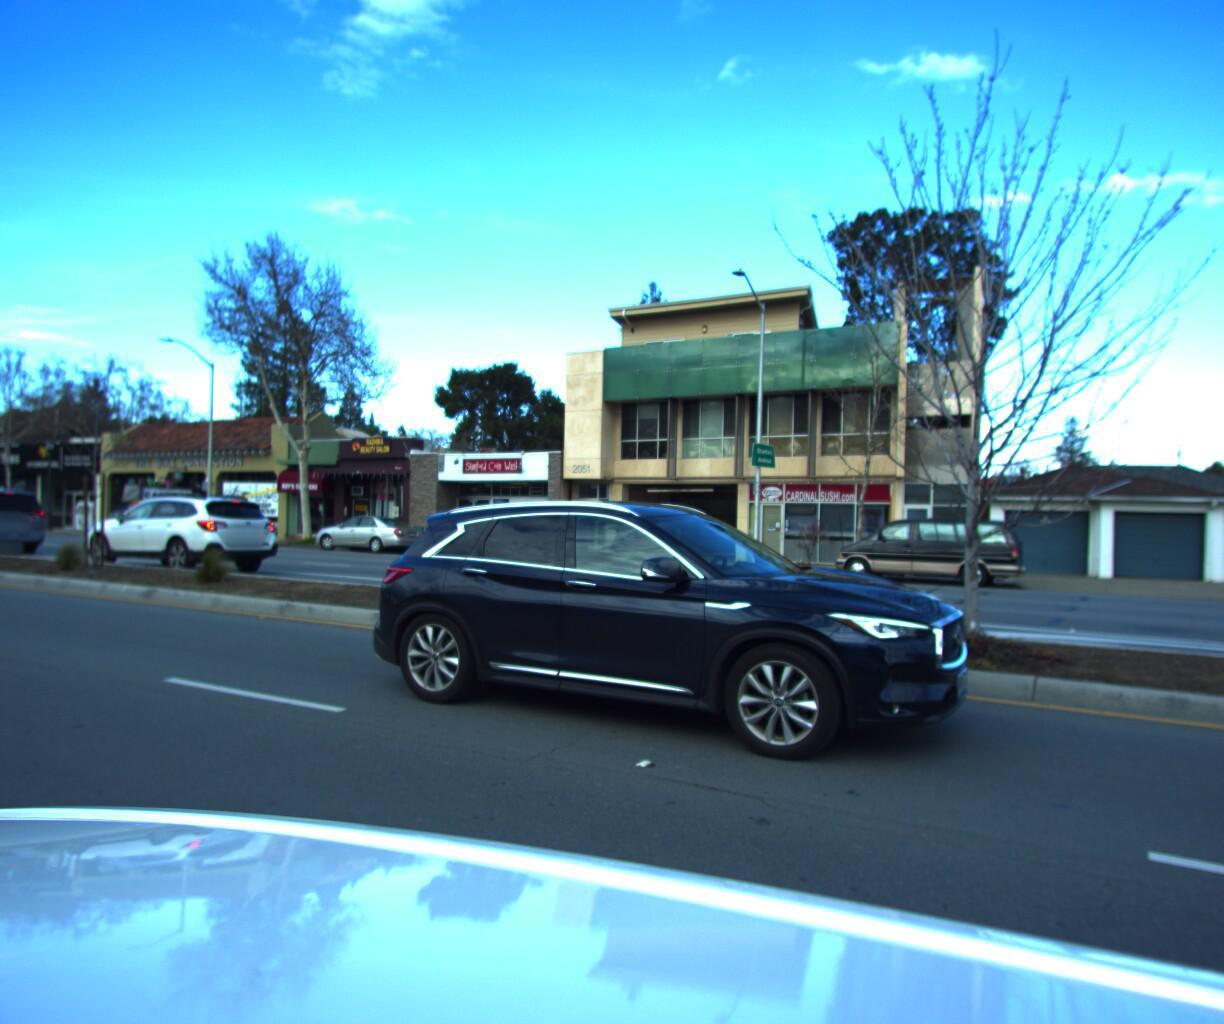car: (351, 489, 984, 786), (65, 486, 294, 575), (827, 507, 1030, 588), (89, 467, 220, 539), (302, 508, 431, 550), (0, 483, 56, 558)
